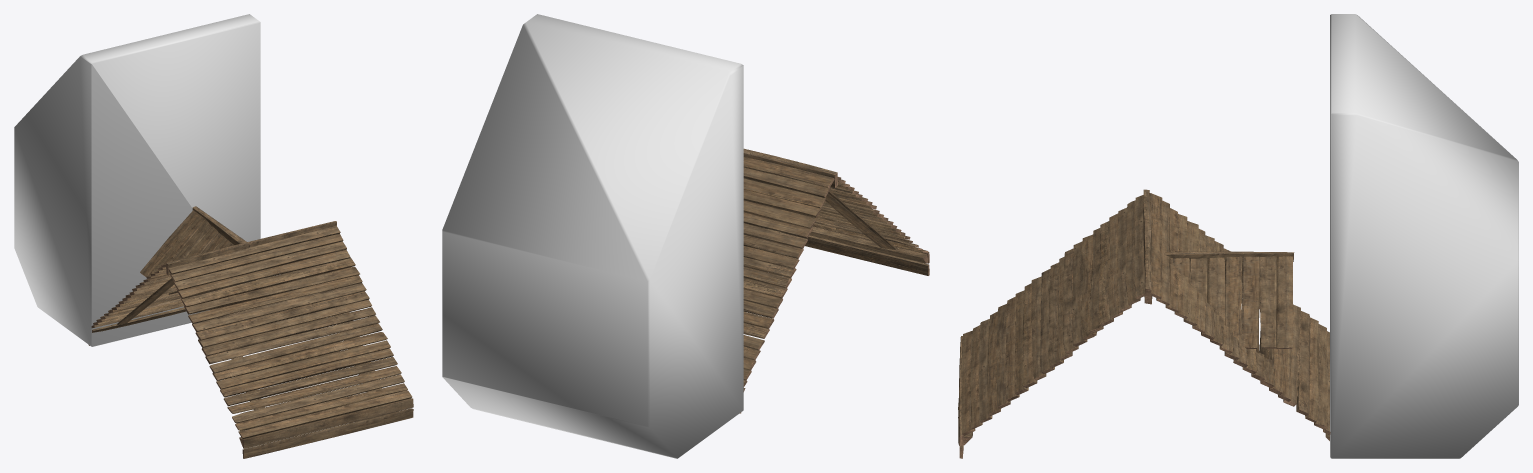
Rendered from SM_Roof_Main_B.fbx.
3 renders of one model, left to right at view 1: azimuth 30°, elevation 25°; view 2: azimuth 150°, elevation 25°; view 3: azimuth 270°, elevation 25°, orthographic. The views are drawn at different scales.
Visible parts, largest first — view 1: SM_Roof_Main_B_ConvexHulls, SM_Roof_Main_B; view 2: SM_Roof_Main_B_ConvexHulls, SM_Roof_Main_B; view 3: SM_Roof_Main_B_ConvexHulls, SM_Roof_Main_B.
Boxes of the visible parts, x1,y1,x2,y2 form: SM_Roof_Main_B_ConvexHulls: [14, 14, 260, 346]; SM_Roof_Main_B: [88, 206, 413, 458]; SM_Roof_Main_B_ConvexHulls: [442, 14, 743, 458]; SM_Roof_Main_B: [739, 148, 929, 413]; SM_Roof_Main_B_ConvexHulls: [1330, 14, 1518, 458]; SM_Roof_Main_B: [958, 189, 1330, 458].
Size of the model in its own units: 7.69 by 12.35 by 18.12.
